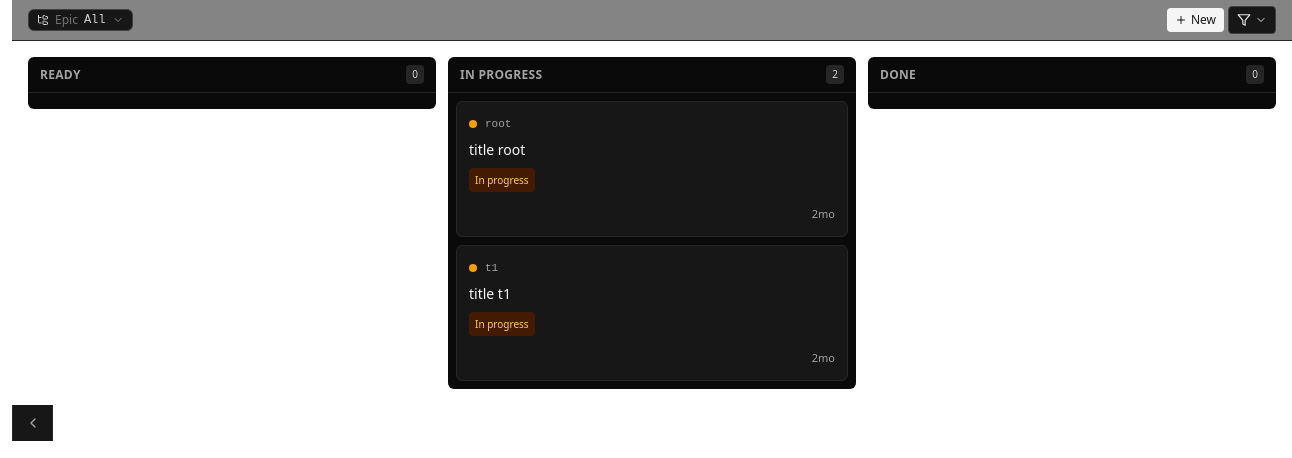
BoardPage › filter menu exposes board controls without layout toggles
The width and height of the screenshot is (1292, 458).
Click the button with test id "board-filter-menu-button" at point(1252, 20), box x1=1228 y1=6 x2=1276 y2=34
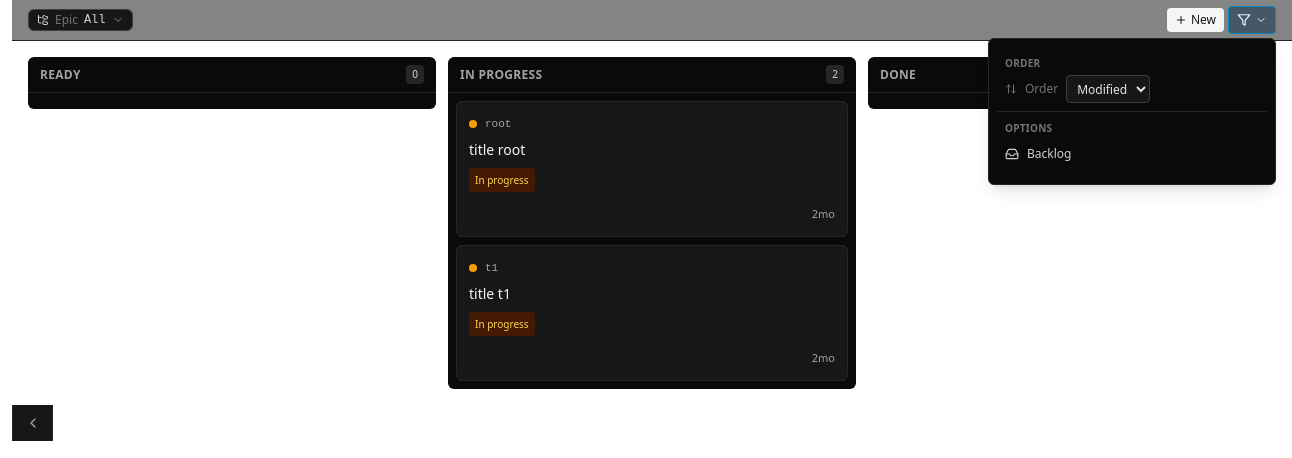
Check: the menu with test id "board-filter-menu" is shown, box x1=988 y1=38 x2=1276 y2=185
Check: the dropdown with test id "board-order-select" is shown, box x1=1066 y1=75 x2=1150 y2=103
Check: the menu item with test id "board-show-backlog-toggle" is shown, box x1=997 y1=140 x2=1267 y2=168
